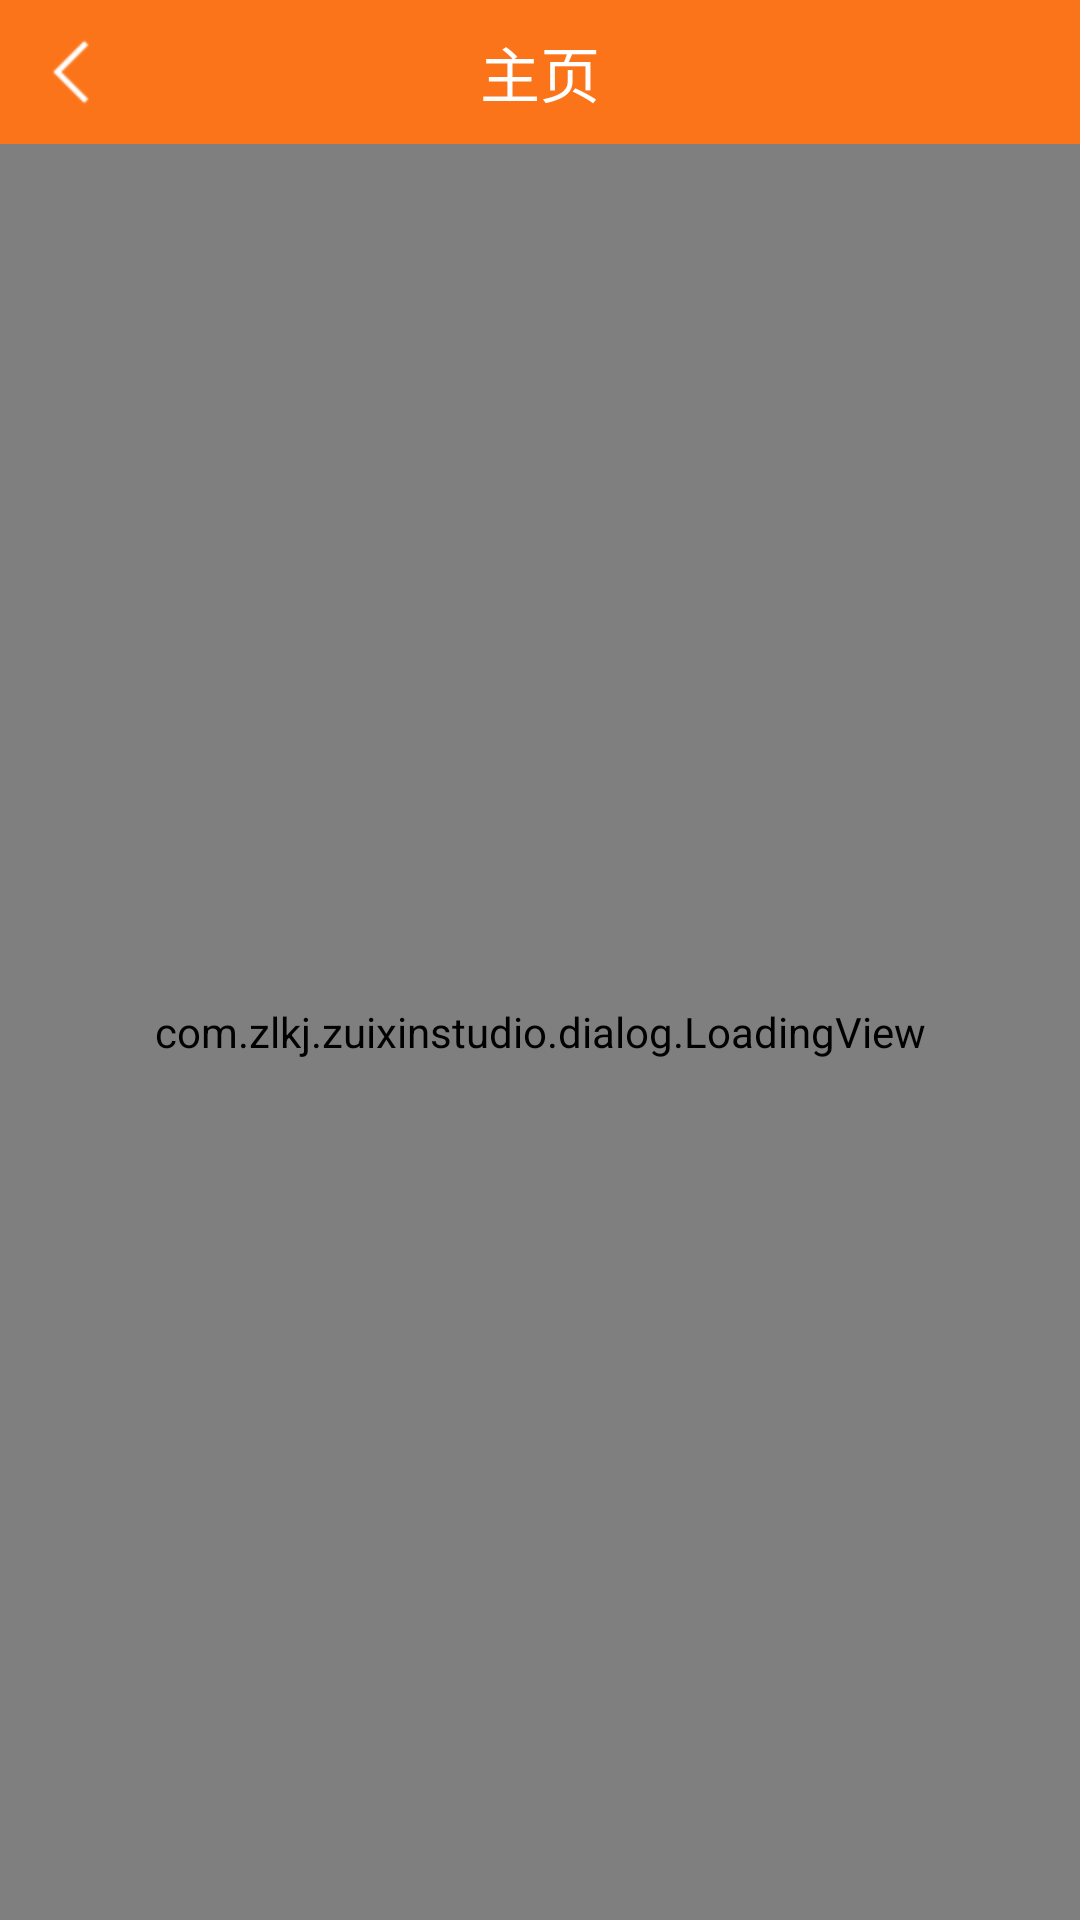

Named icons in this screenshot (1080px x 1920px) and their centers, point (x, y):
backf: point (71, 72)
